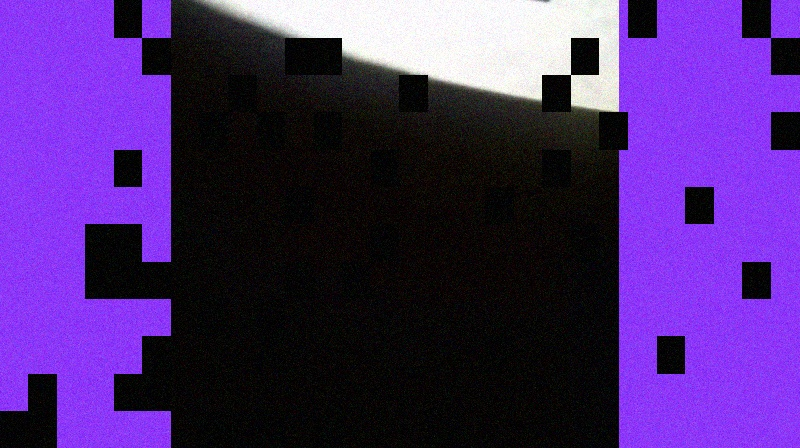O002: (399, 0, 570, 6)
